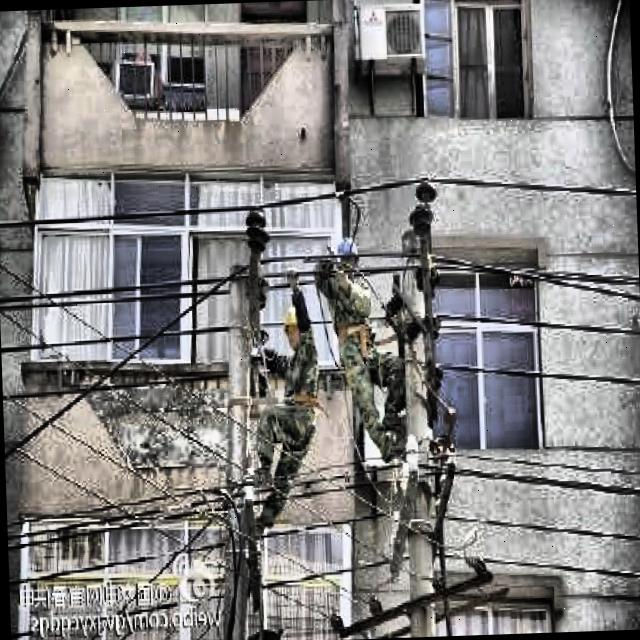helmet: (329, 232, 361, 288), (277, 298, 309, 352)
